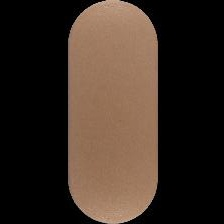0781-5386: (0, 0, 224, 224)
